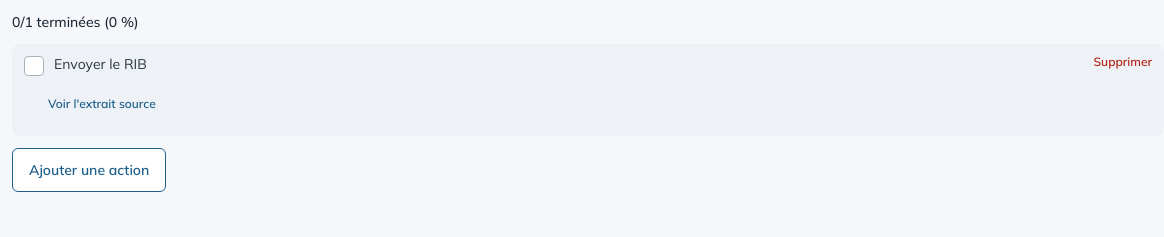
PilotageActionsList (US-5.2) › échec PATCH (ex. 429) au cochage → message d'erreur visible, case repliée
Click the checkbox labelled "Envoyer le RIB".
click(34, 66)  # box [24,56,44,76]
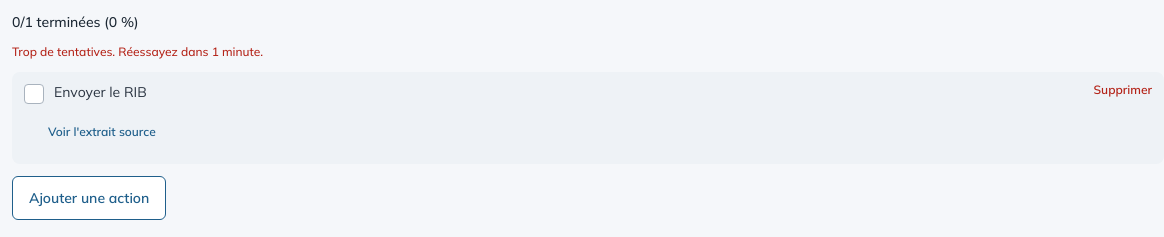
Check: the checkbox labelled "Envoyer le RIB" is not checked, box [24,84,44,104]
Check: the text "Trop de tentatives. Réessayez dans 1 minute." is shown, box [12,44,263,59]
